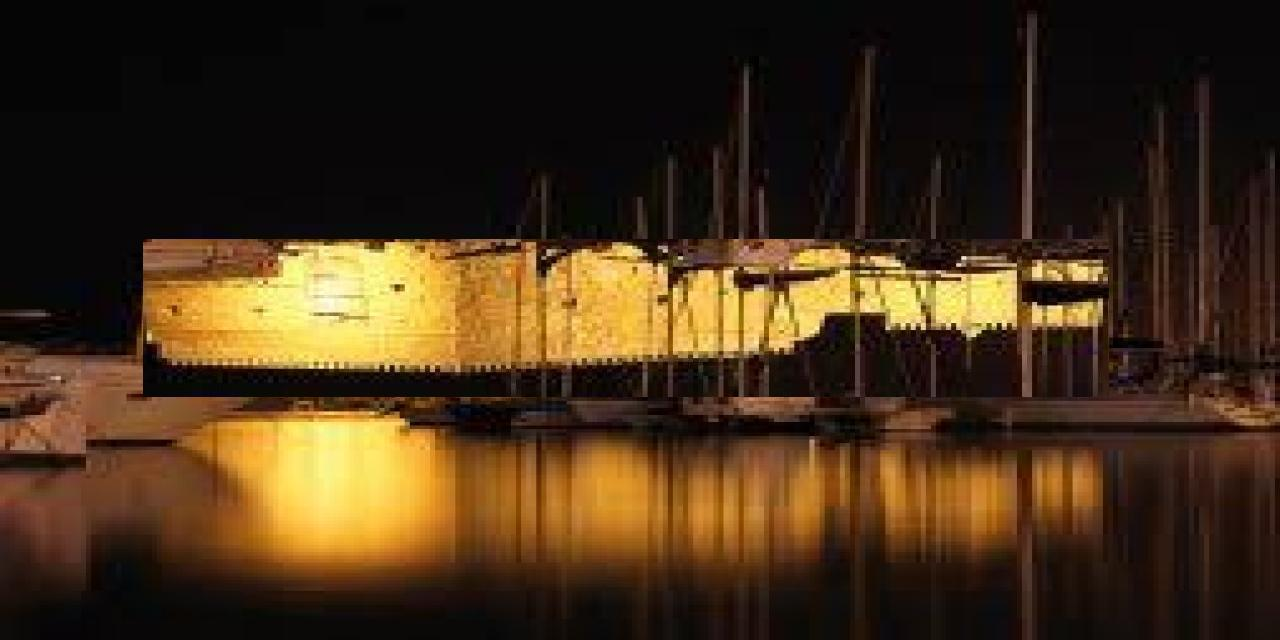Kules: (144, 240, 1110, 398)
